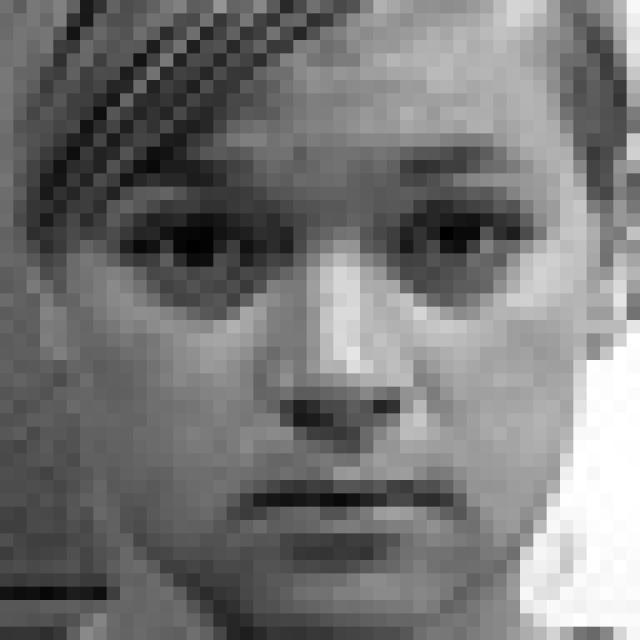neutral: (102, 132, 553, 566)
